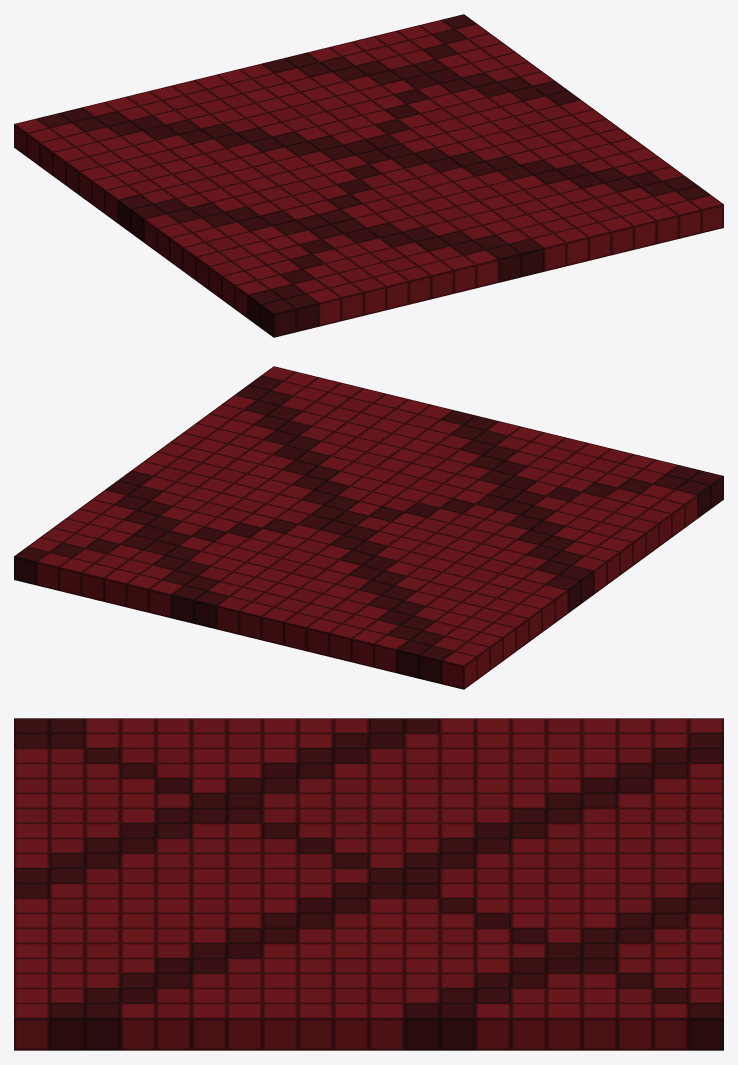
The model's file is stage_carpet_tile.glb.
The picture shows the model from 3 angles, top to bottom: view 1: azimuth 30°, elevation 25°; view 2: azimuth 150°, elevation 25°; view 3: azimuth 270°, elevation 25°; orthographic projection. The views are drawn at different scales.
Visible parts, largest first — view 1: stage_carpet_tile; view 2: stage_carpet_tile; view 3: stage_carpet_tile.
Part boxes in pixels (x1,y1,x2,y2): stage_carpet_tile: (14, 14, 723, 337); stage_carpet_tile: (14, 366, 723, 689); stage_carpet_tile: (14, 718, 723, 1050).
Size of the model in its own units: 1 by 0.05 by 1.
2 materials, 2 textured.
